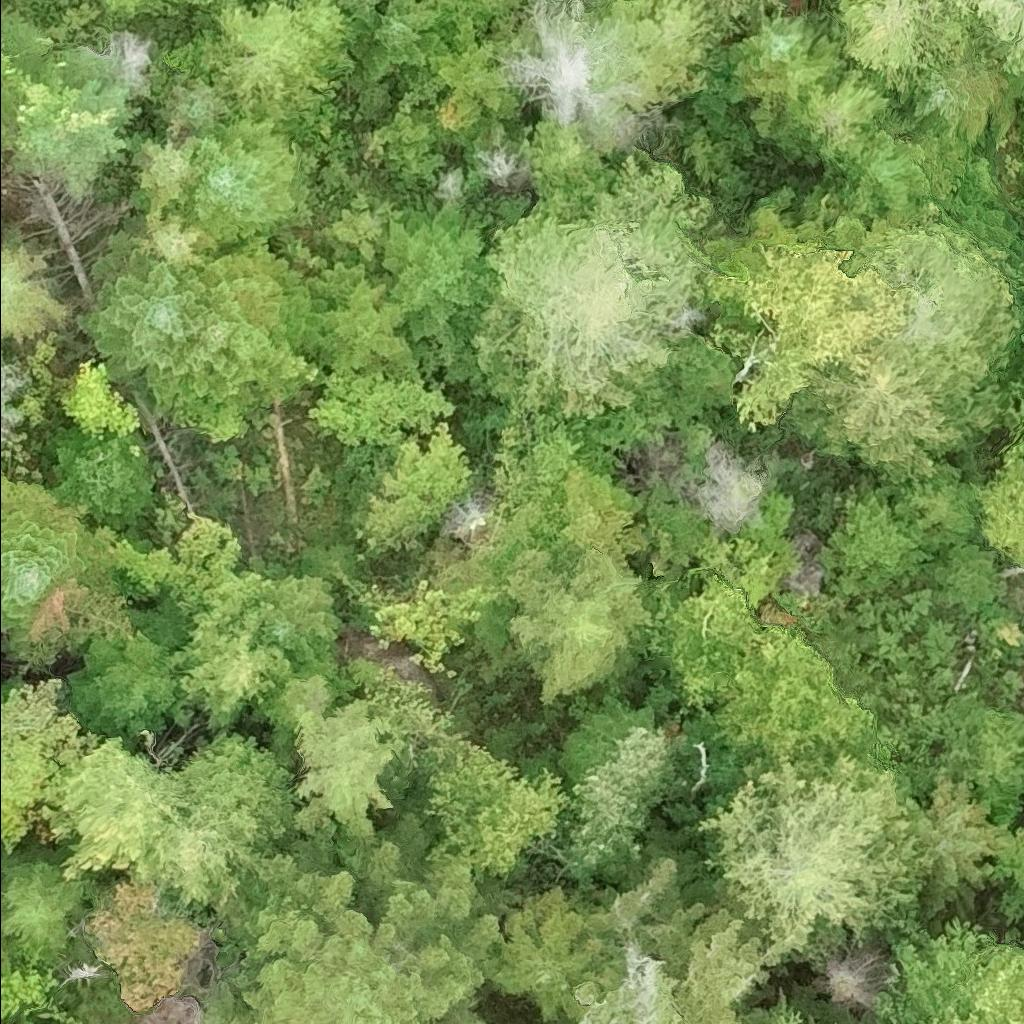crown: (199, 810, 523, 1023), (465, 185, 708, 418), (700, 750, 923, 942), (701, 231, 906, 435), (576, 856, 817, 1023), (854, 220, 1023, 414), (492, 0, 683, 148), (156, 249, 330, 411), (500, 542, 648, 709), (415, 730, 571, 883), (266, 671, 410, 835), (554, 721, 689, 883), (713, 627, 872, 761), (798, 360, 974, 481), (75, 229, 212, 381), (487, 884, 622, 1022), (43, 753, 185, 881), (0, 493, 116, 649), (870, 910, 1023, 1023), (377, 203, 493, 351), (169, 599, 295, 735), (84, 879, 208, 1015), (196, 0, 356, 100), (179, 727, 296, 862), (94, 504, 240, 611), (188, 117, 309, 245), (916, 763, 1008, 929), (0, 678, 87, 852), (350, 579, 501, 679), (360, 419, 475, 548), (61, 627, 184, 747), (590, 0, 724, 108), (835, 0, 979, 96), (665, 573, 759, 713), (121, 818, 250, 920), (817, 487, 935, 597), (310, 263, 414, 369), (0, 842, 92, 961), (51, 422, 155, 527), (425, 16, 521, 127), (736, 29, 858, 111), (786, 64, 894, 155), (253, 572, 342, 674), (841, 122, 932, 213), (350, 0, 450, 82), (0, 46, 89, 138), (362, 661, 456, 748), (932, 183, 1023, 272), (28, 573, 134, 648), (41, 735, 137, 811), (0, 243, 74, 341), (811, 927, 894, 1013), (60, 357, 140, 440), (972, 437, 1023, 566), (921, 538, 1003, 616), (729, 3, 825, 68), (949, 0, 1023, 83), (131, 206, 218, 274), (909, 60, 987, 133), (0, 945, 59, 1019), (690, 0, 783, 36), (0, 360, 30, 443), (765, 985, 818, 1023), (0, 79, 21, 173), (474, 0, 524, 25), (0, 939, 17, 974), (166, 0, 235, 8), (833, 1019, 840, 1023)
